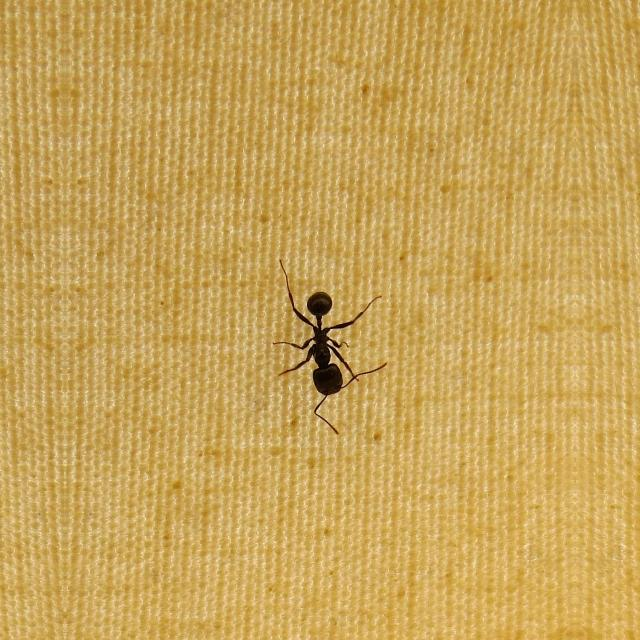Messor: (284, 272, 362, 402)
